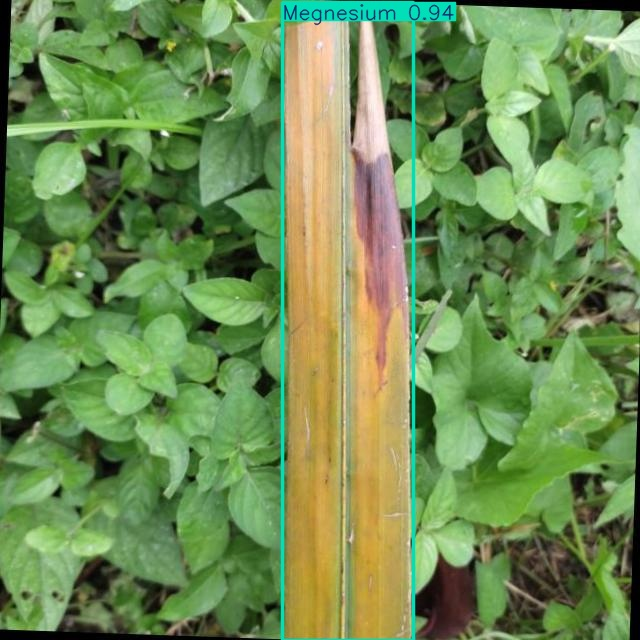Megnesium: (282, 2, 414, 640)
